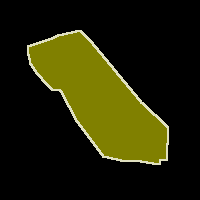tie: (28, 30, 168, 164)
